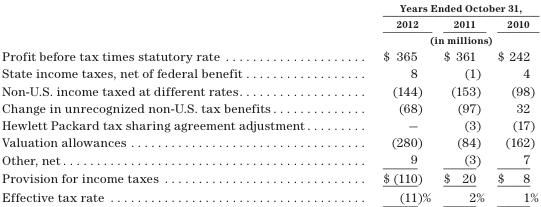table: (0, 1, 537, 204)
table column: (0, 1, 345, 204), (345, 1, 436, 204), (436, 1, 490, 204), (490, 1, 537, 204)
table column header: (0, 1, 537, 46)
table row: (0, 46, 537, 64), (0, 98, 537, 116), (0, 150, 537, 168), (0, 168, 537, 186), (0, 186, 537, 204), (0, 64, 537, 81), (0, 81, 537, 98), (0, 116, 537, 133), (0, 133, 537, 150), (0, 15, 537, 31), (0, 31, 537, 46), (0, 1, 537, 15)
table spanning cell: (345, 31, 537, 46), (345, 1, 537, 15)
